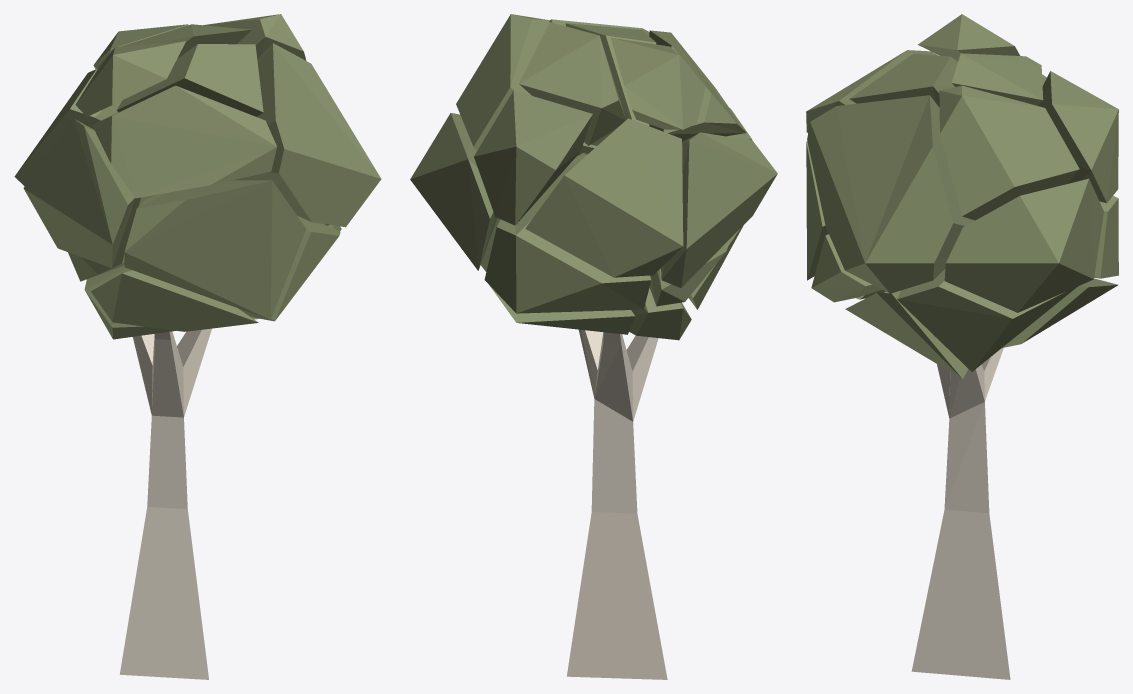
The model's file is tree_1.fbx.
3 views of the same model, side by side, from view 1: azimuth 30°, elevation 25°; view 2: azimuth 150°, elevation 25°; view 3: azimuth 270°, elevation 25° (orthographic).
Parts seen in each view (by area): view 1: tree_1; view 2: tree_1; view 3: tree_1.
Part boxes in pixels (x1,y1,x2,y2): tree_1: (14,14,381,679); tree_1: (410,14,777,679); tree_1: (806,14,1118,679).
Size of the model in its own units: 170 by 373 by 170.
